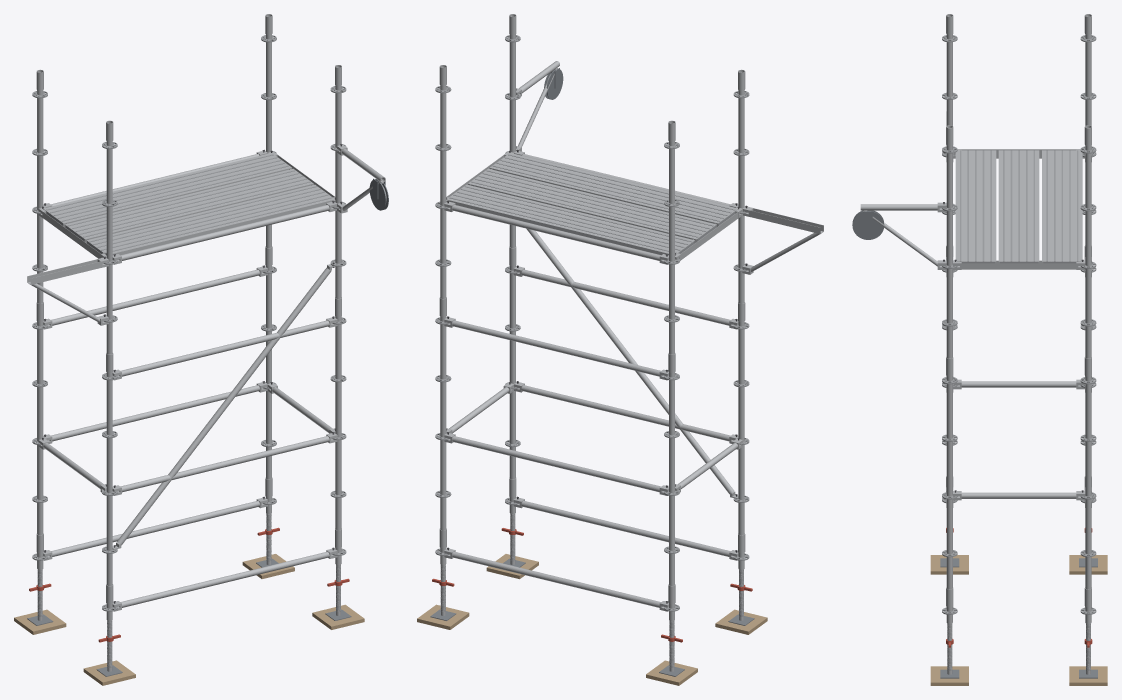
File: demo_assembly_2070x1090_2lifts.glb
3 views of the same model, side by side, from view 1: azimuth 30°, elevation 25°; view 2: azimuth 150°, elevation 25°; view 3: azimuth 270°, elevation 25° (orthographic).
Parts seen in each view (by area): view 1: demo_assembly_2070x1090_2lifts; view 2: demo_assembly_2070x1090_2lifts; view 3: demo_assembly_2070x1090_2lifts.
Part boxes in pixels (x1,y1,x2,y2): demo_assembly_2070x1090_2lifts: [14, 14, 388, 685]; demo_assembly_2070x1090_2lifts: [417, 14, 823, 685]; demo_assembly_2070x1090_2lifts: [852, 14, 1107, 685].
Size of the model in its own units: 2.95 by 4.78 by 2.
